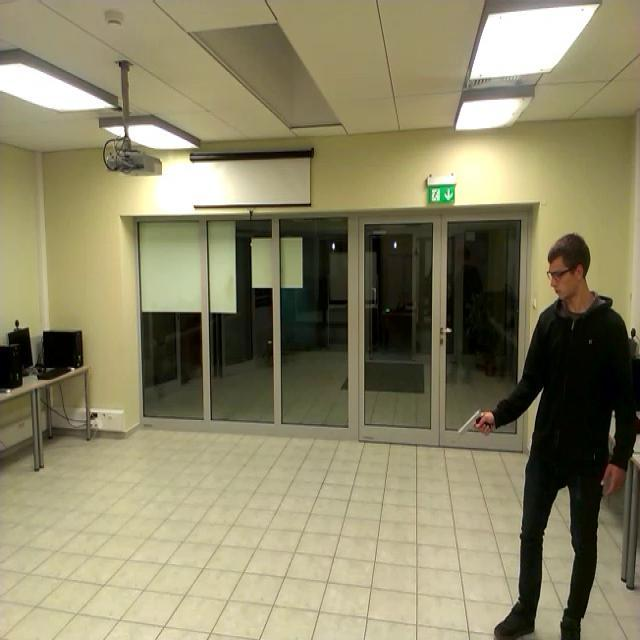gun-knife-thesis - v11 Yolov5 augmented: (448, 402, 493, 438)
